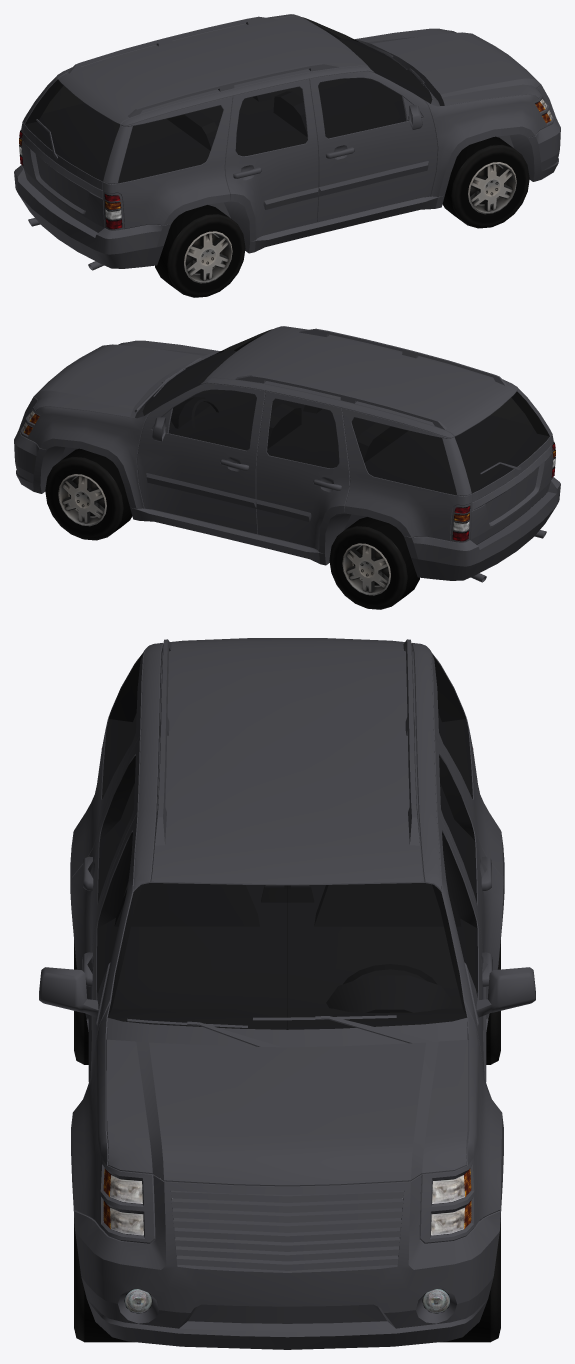
The model's file is traffic_suv.glb.
3 renders of one model, top to bottom at view 1: azimuth 30°, elevation 25°; view 2: azimuth 150°, elevation 25°; view 3: azimuth 270°, elevation 25°, orthographic. The views are drawn at different scales.
Parts seen in each view (by area): view 1: suv_c_body, suv_c_glass, suv_c_wheel_0.001, suv_c_wheel_2.001, suv_c_optics; view 2: suv_c_body, suv_c_glass, suv_c_wheel_1.001, suv_c_wheel_3.001, suv_c_optics; view 3: suv_c_body, suv_c_glass, suv_c_optics, suv_c_wheel_2.001, suv_c_wheel_3.001.
Boxes of the visible parts, x1,y1,x2,y2 form: suv_c_body: (14, 14, 560, 270); suv_c_glass: (25, 17, 432, 183); suv_c_wheel_0.001: (155, 205, 245, 297); suv_c_wheel_2.001: (442, 136, 529, 228); suv_c_optics: (19, 99, 552, 229); suv_c_body: (14, 326, 560, 582); suv_c_glass: (142, 329, 549, 495); suv_c_wheel_1.001: (329, 517, 419, 609); suv_c_wheel_3.001: (45, 448, 132, 540); suv_c_optics: (22, 411, 555, 541); suv_c_body: (39, 638, 535, 1349); suv_c_glass: (97, 655, 477, 1029); suv_c_optics: (101, 748, 473, 1313); suv_c_wheel_2.001: (74, 1218, 134, 1342); suv_c_wheel_3.001: (440, 1218, 500, 1342).
Size of the model in its own units: 4.61 by 1.73 by 2.07.
11 materials, 9 textured.
